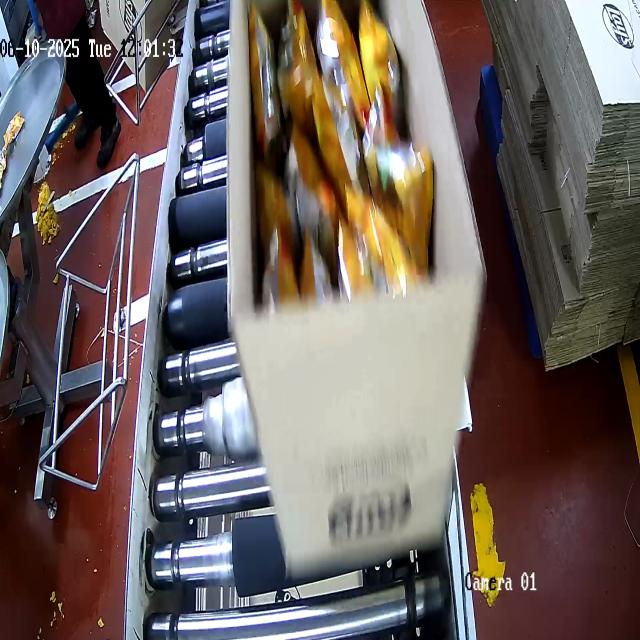FRENCH_CHEESE: (259, 0, 428, 316)
